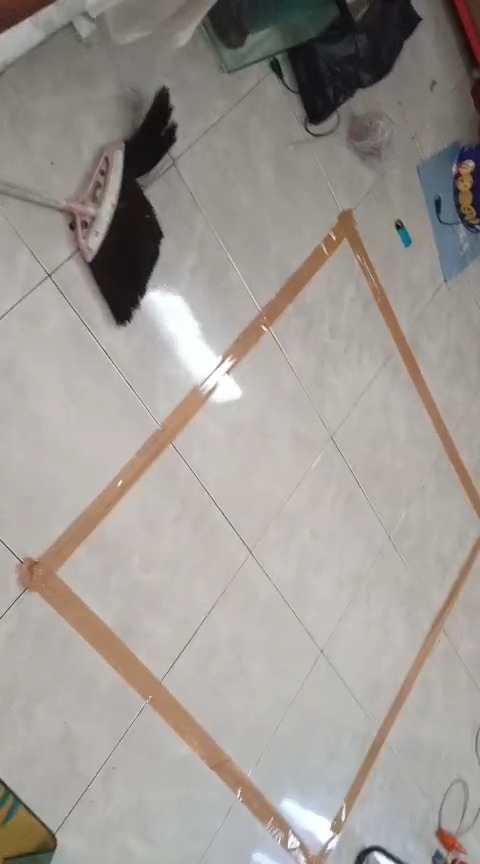floor marking: (19, 211, 479, 863)
